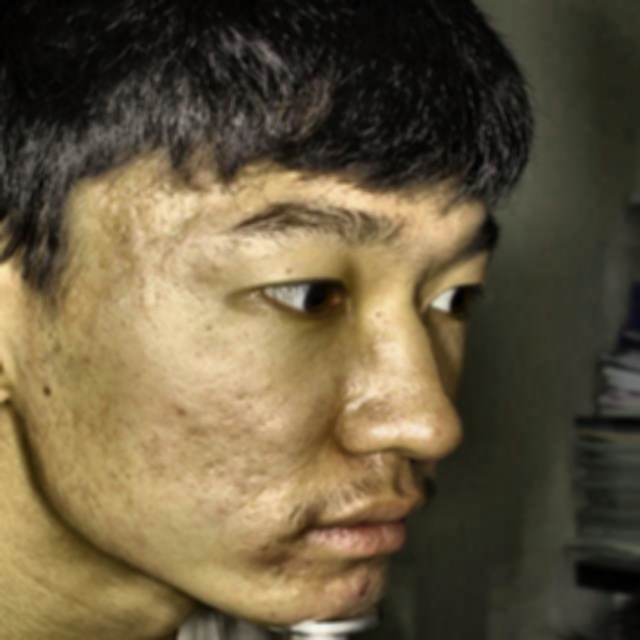comedone: (343, 570, 381, 601)
